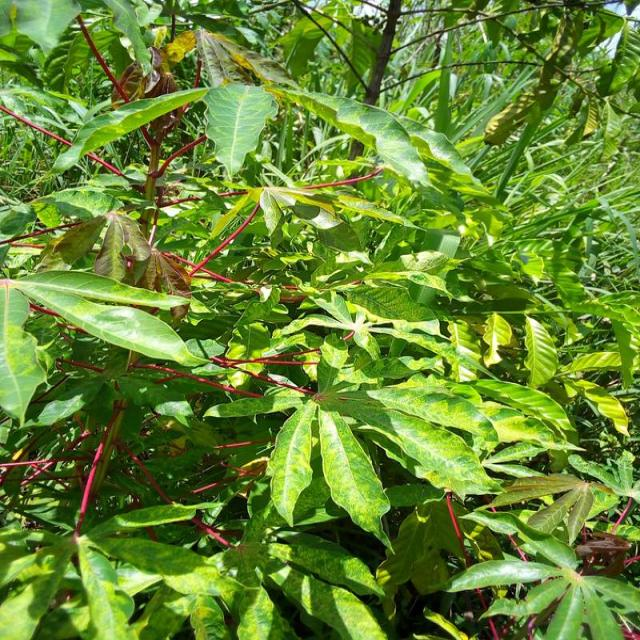cassava leaf: (1, 3, 637, 637), (7, 268, 210, 369), (202, 80, 278, 180)
